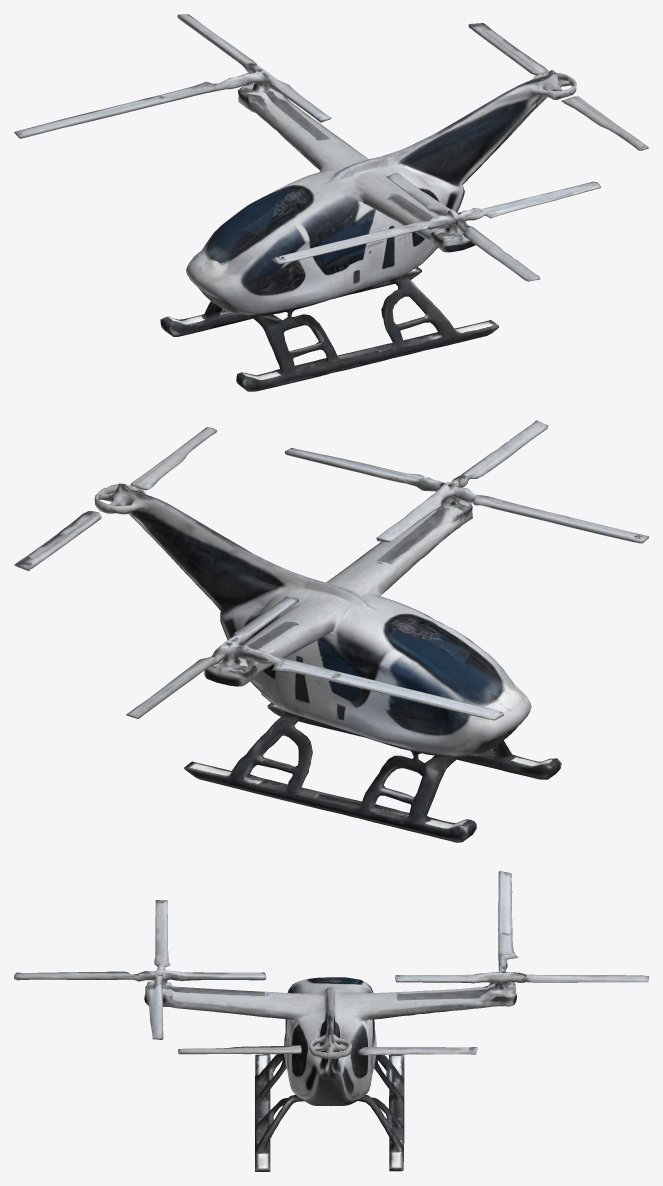
Rendered from Sky_Rover_0521115638_texture.glb.
The picture shows the model from 3 angles, top to bottom: view 1: azimuth 30°, elevation 25°; view 2: azimuth 150°, elevation 25°; view 3: azimuth 270°, elevation 25°; orthographic projection. The views are drawn at different scales.
Parts seen in each view (by area): view 1: Mesh1; view 2: Mesh1; view 3: Mesh1.
Part boxes in pixels (<box>): Mesh1: <box>14,14,648,391</box>; Mesh1: <box>14,420,648,842</box>; Mesh1: <box>14,871,648,1171</box>.
Bounding box in the file's own units: 1.48 × 0.6406 × 2.01.
1 material, 1 textured.
